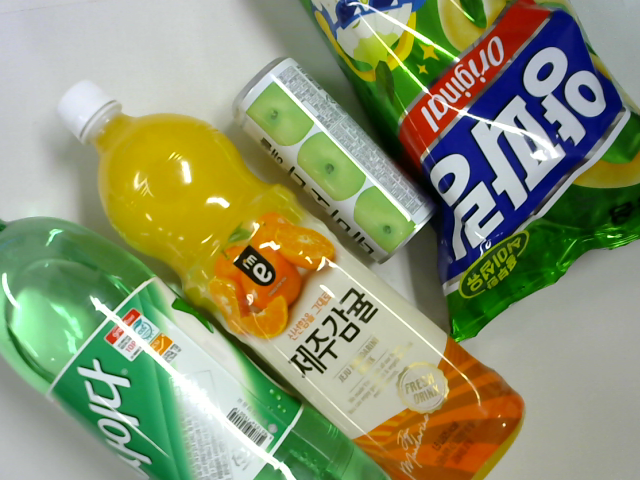Chilseong_Cider_1.5L: (1, 214, 410, 480)
Demisoda_Apple_Can_250ml: (219, 50, 433, 258)
Jeju_Tangerine_1.5L: (46, 71, 529, 480)
Oninon_Ring: (286, 1, 636, 325)
